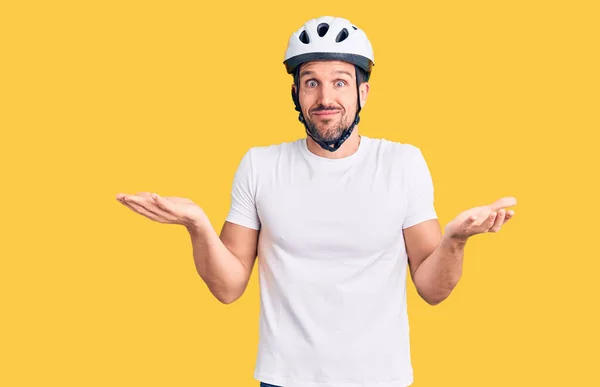helmet: (283, 16, 375, 151)
